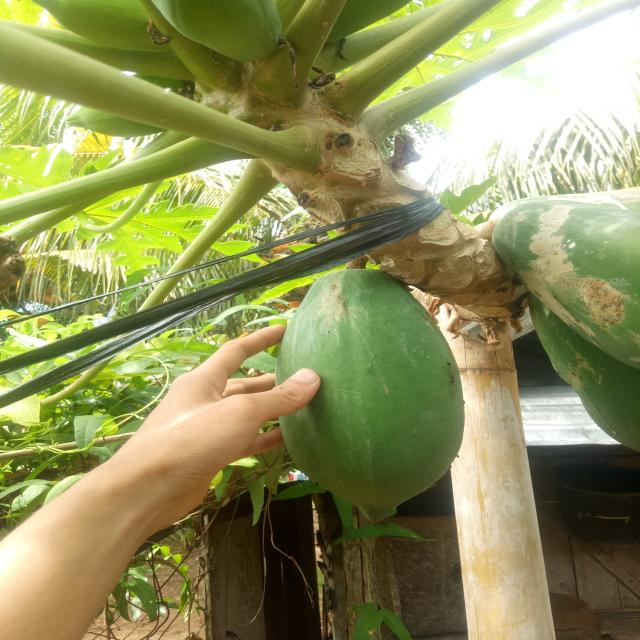Pepaya unrippen: (272, 273, 470, 526)
